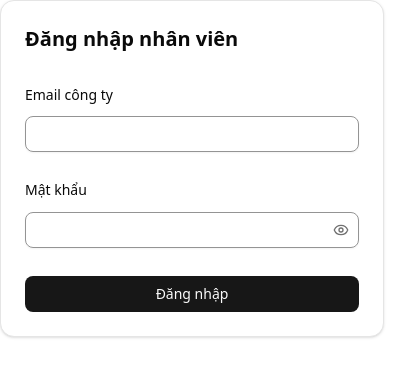
Test: fields › refuses an email that is not one
The image size is (401, 387).
Expected: the button "Đăng nhập" is enabled, [25,276,359,312]
Step 1. Type "nhanvien" into the field labelled "Email công ty" → [192, 134], box [25,116,359,152]
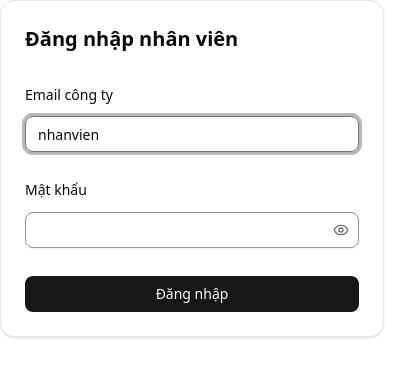
Step 2. Type "mat-khau-cua-toi" into the password field labelled "Mật khẩu" → [178, 230], box [26,212,329,248]
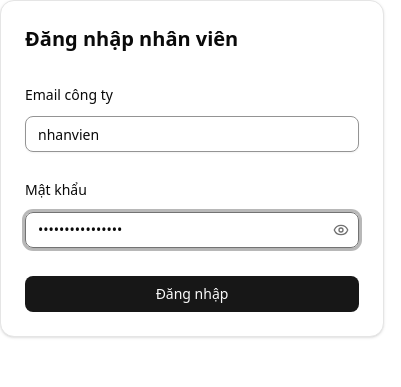
Step 3. Click the button "Đăng nhập" → [192, 294], box [25,276,359,312]
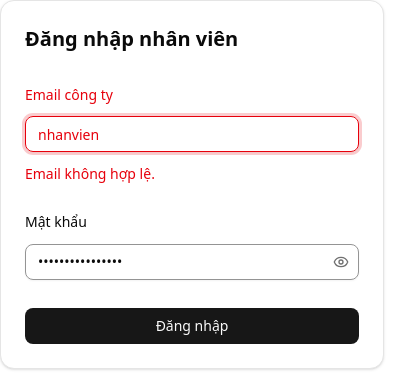
Expected: the text "Email không hợp lệ." is shown, [25,164,155,183]
